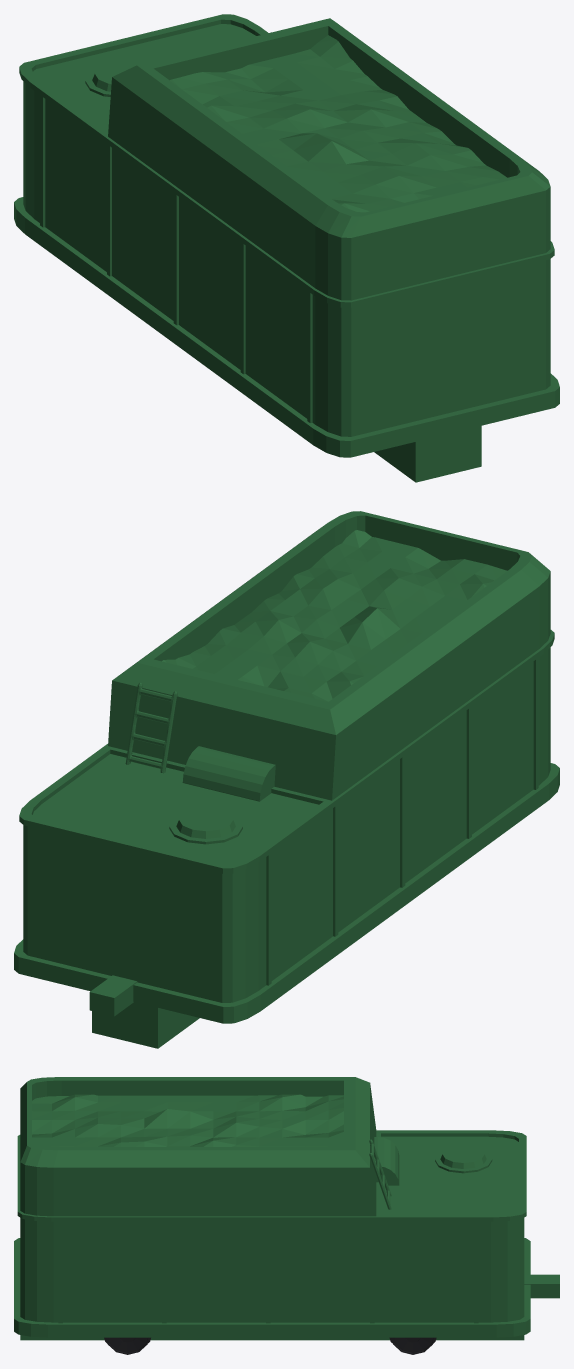
The model's file is tender.glb.
The picture shows the model from 3 angles, top to bottom: view 1: azimuth 30°, elevation 25°; view 2: azimuth 150°, elevation 25°; view 3: azimuth 270°, elevation 25°; orthographic projection. The views are drawn at different scales.
Parts seen in each view (by area): view 1: CoalTender_Cube; view 2: CoalTender_Cube; view 3: CoalTender_Cube, FrontWheels_Cylinder.008, BackWheels_Cylinder.005.
Part boxes in pixels (x1,y1,x2,y2): CoalTender_Cube: (14, 14, 559, 482); CoalTender_Cube: (14, 511, 559, 1048); CoalTender_Cube: (14, 1077, 559, 1340); FrontWheels_Cylinder.008: (389, 1337, 436, 1354); BackWheels_Cylinder.005: (104, 1337, 150, 1354).
Bounding box in the file's own units: 2.02 × 2.35 × 5.21.
